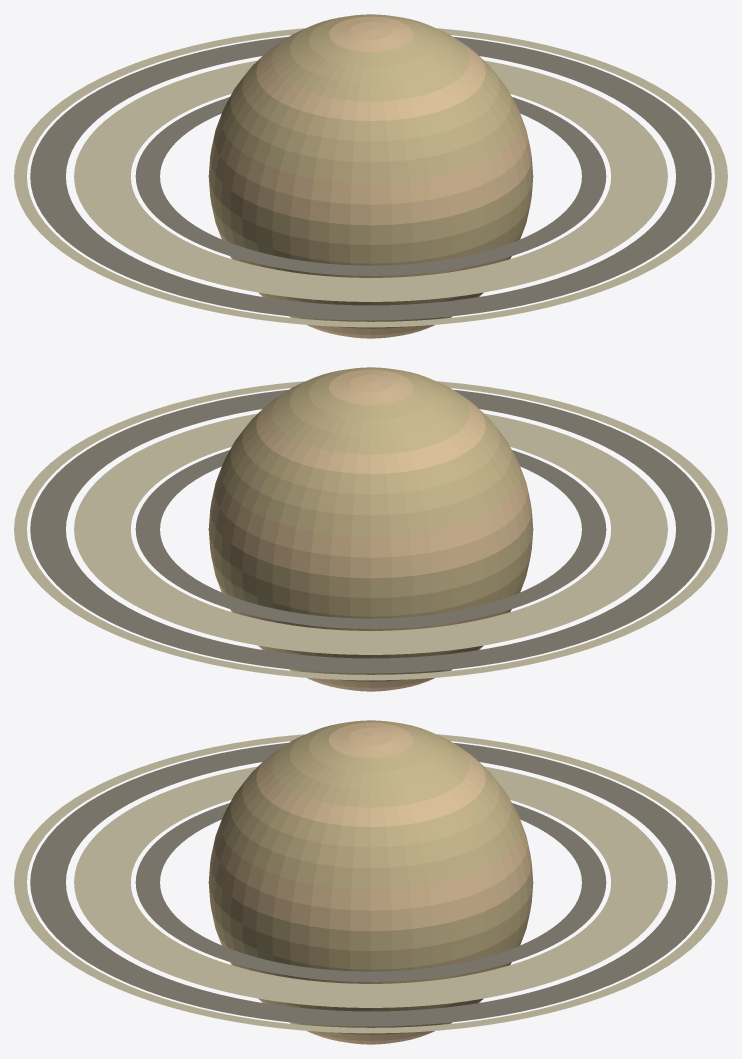
Rendered from 11_Saturn.obj.
The picture shows the model from 3 angles, top to bottom: view 1: azimuth 30°, elevation 25°; view 2: azimuth 150°, elevation 25°; view 3: azimuth 270°, elevation 25°; orthographic projection.
Visible parts, largest first — view 1: Saturn, Ring_1, Ring_2, Ring_3, Ring_0; view 2: Saturn, Ring_1, Ring_2, Ring_3, Ring_0; view 3: Saturn, Ring_1, Ring_2, Ring_3, Ring_0.
Boxes of the visible parts, left/top/right/bottom form: Saturn: left=208, top=14, right=533, bottom=338; Ring_1: left=74, top=60, right=667, bottom=301; Ring_2: left=30, top=37, right=711, bottom=320; Ring_3: left=14, top=28, right=727, bottom=327; Ring_0: left=135, top=97, right=606, bottom=275; Saturn: left=208, top=367, right=533, bottom=691; Ring_1: left=74, top=413, right=667, bottom=654; Ring_2: left=30, top=390, right=711, bottom=673; Ring_3: left=14, top=381, right=727, bottom=680; Ring_0: left=135, top=450, right=606, bottom=628; Saturn: left=208, top=720, right=533, bottom=1044; Ring_1: left=74, top=766, right=667, bottom=1007; Ring_2: left=30, top=743, right=711, bottom=1026; Ring_3: left=14, top=734, right=727, bottom=1033; Ring_0: left=135, top=803, right=606, bottom=981.
Bounding box in the file's own units: 4.4 × 2 × 4.4.
